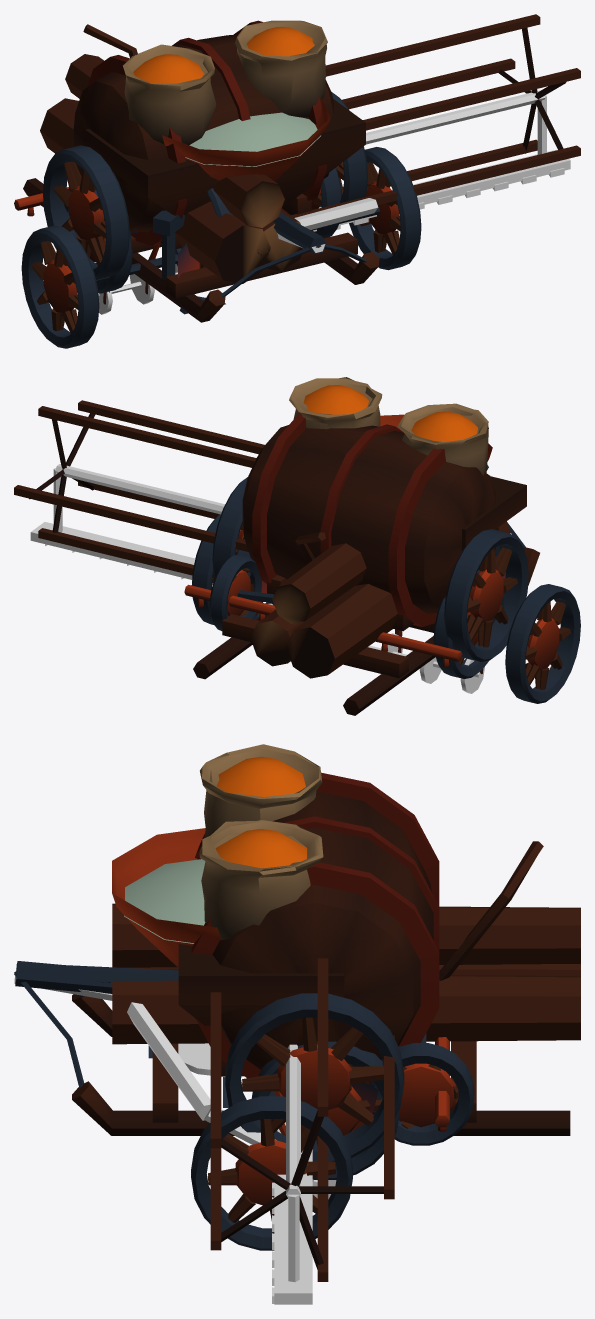
The model's file is Traktor_Aletler.fbx.
3 views of the same model, one above another, from view 1: azimuth 30°, elevation 25°; view 2: azimuth 150°, elevation 25°; view 3: azimuth 270°, elevation 25° (orthographic). The views are drawn at different scales.
Parts seen in each view (by area): view 1: Alet_Ekici, Alet_Kizak, Alet_Su_Tanki, Ekici_Tekerler, Bicer_Cark, SuTanki_Tekerler, Alet_Serpici, Alet_Bicer, Alet_Pulluk, Serpici_Tekerler, Ekici_Diskler; view 2: Alet_Su_Tanki, Alet_Kizak, Bicer_Cark, Alet_Ekici, SuTanki_Tekerler, Ekici_Tekerler, Alet_Bicer, Pulluk_Teker, Serpici_Tekerler, Ekici_Diskler, Alet_Pulluk; view 3: Alet_Su_Tanki, Alet_Kizak, Alet_Ekici, SuTanki_Tekerler, Bicer_Cark, Ekici_Tekerler, Alet_Bicer, Alet_Serpici, Pulluk_Teker, Alet_Pulluk, Serpici_Tekerler, Serpici_Disk.
Boxes of the visible parts, <box> form: Alet_Ekici: <box>85,20,365,304</box>; Alet_Kizak: <box>23,54,379,322</box>; Alet_Su_Tanki: <box>14,20,333,249</box>; Ekici_Tekerler: <box>21,147,421,348</box>; Bicer_Cark: <box>290,14,580,217</box>; SuTanki_Tekerler: <box>42,92,367,279</box>; Alet_Serpici: <box>130,98,330,233</box>; Alet_Bicer: <box>277,90,570,252</box>; Alet_Pulluk: <box>83,24,326,314</box>; Serpici_Tekerler: <box>64,167,342,293</box>; Ekici_Diskler: <box>98,264,177,314</box>; Alet_Su_Tanki: <box>184,413,498,667</box>; Alet_Kizak: <box>193,521,539,715</box>; Bicer_Cark: <box>14,400,264,580</box>; Alet_Ekici: <box>289,377,526,673</box>; SuTanki_Tekerler: <box>212,477,528,661</box>; Ekici_Tekerler: <box>191,514,580,703</box>; Alet_Bicer: <box>30,464,224,584</box>; Pulluk_Teker: <box>209,554,261,630</box>; Serpici_Tekerler: <box>236,537,504,678</box>; Ekici_Diskler: <box>268,603,484,693</box>; Alet_Pulluk: <box>237,465,505,605</box>; Alet_Su_Tanki: <box>16,772,449,1131</box>; Alet_Kizak: <box>14,903,580,1135</box>; Alet_Ekici: <box>103,744,344,1135</box>; SuTanki_Tekerler: <box>225,993,404,1162</box>; Bicer_Cark: <box>210,958,394,1281</box>; Ekici_Tekerler: <box>191,1091,352,1250</box>; Alet_Bicer: <box>14,976,312,1304</box>; Alet_Serpici: <box>96,828,220,982</box>; Pulluk_Teker: <box>369,1043,474,1145</box>; Alet_Pulluk: <box>15,841,543,1130</box>; Serpici_Tekerler: <box>251,1041,399,1179</box>; Serpici_Disk: <box>178,1043,225,1077</box>.
Size of the model in its own units: 3.72 by 1.79 by 2.66.
